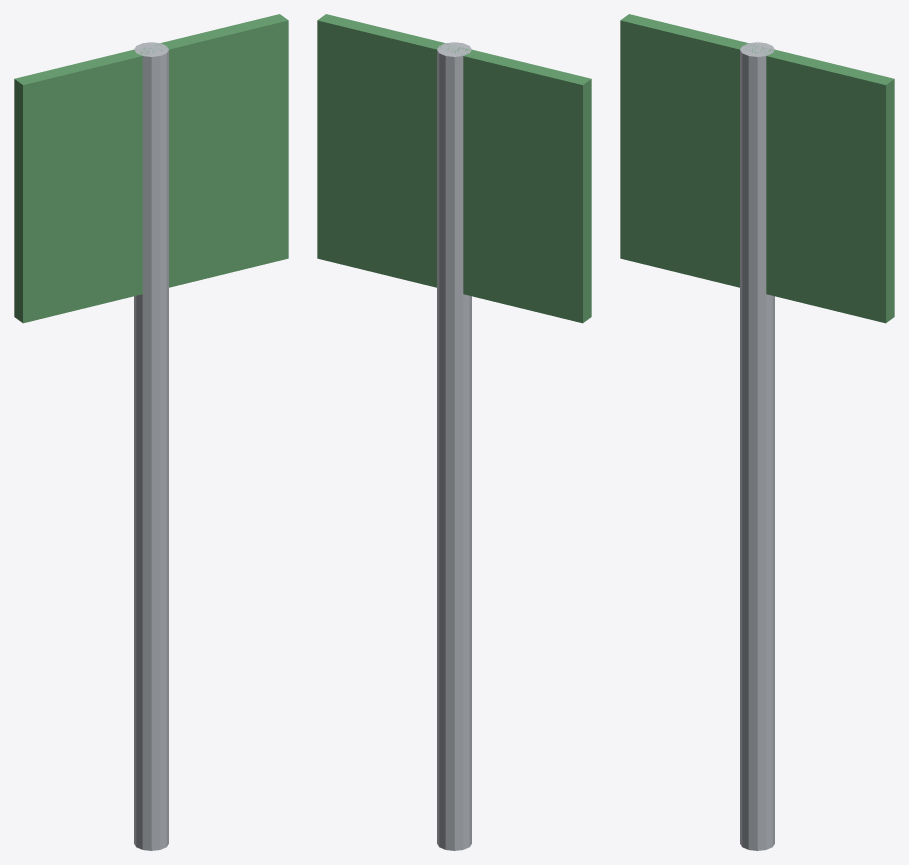
File: sign.glb
The picture shows the model from 3 angles, left to right: view 1: azimuth 30°, elevation 25°; view 2: azimuth 150°, elevation 25°; view 3: azimuth 330°, elevation 25°; orthographic projection.
Parts seen in each view (by area): view 1: sign_panel, sign_pole; view 2: sign_panel, sign_pole; view 3: sign_panel, sign_pole.
Part boxes in pixels (x1,y1,x2,y2): sign_panel: (14,14,288,323); sign_pole: (134,42,168,850); sign_panel: (317,14,591,323); sign_pole: (437,42,471,850); sign_panel: (620,14,894,323); sign_pole: (740,42,774,850).
Bounding box in the file's own units: 0.7 × 2 × 0.08.
